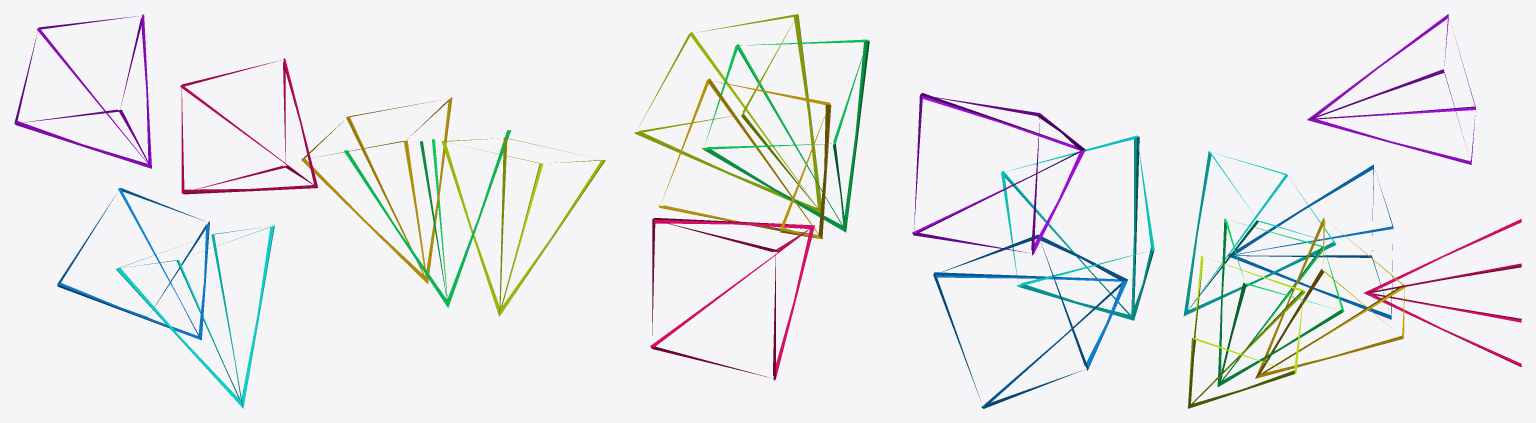
Rendered from pitch_180_wrist_video_60.glb.
3 views of the same model, side by side, from view 1: azimuth 30°, elevation 25°; view 2: azimuth 150°, elevation 25°; view 3: azimuth 270°, elevation 25° (orthographic). The views are drawn at different scales.
Visible parts, largest first — view 1: world; view 2: world; view 3: world.
Part boxes in pixels (<box>): world: <box>14,14,605,408</box>; world: <box>634,14,1154,408</box>; world: <box>1183,14,1521,408</box>.
Bounding box in the file's own units: 0.6879 × 0.4364 × 0.4882.
